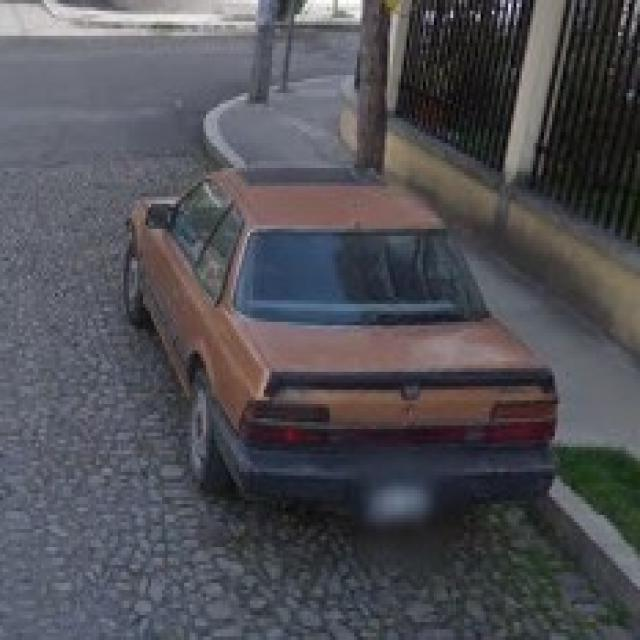car: (123, 178, 555, 520)
